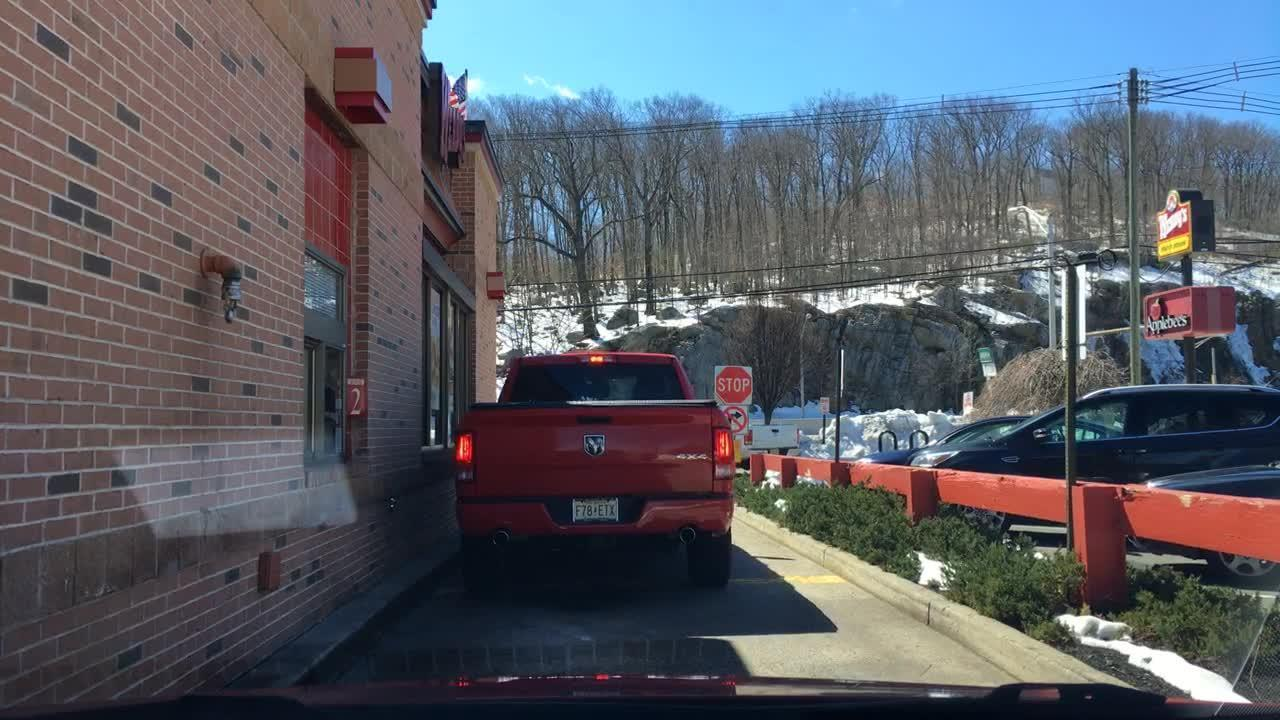ram: (578, 430, 610, 461)
